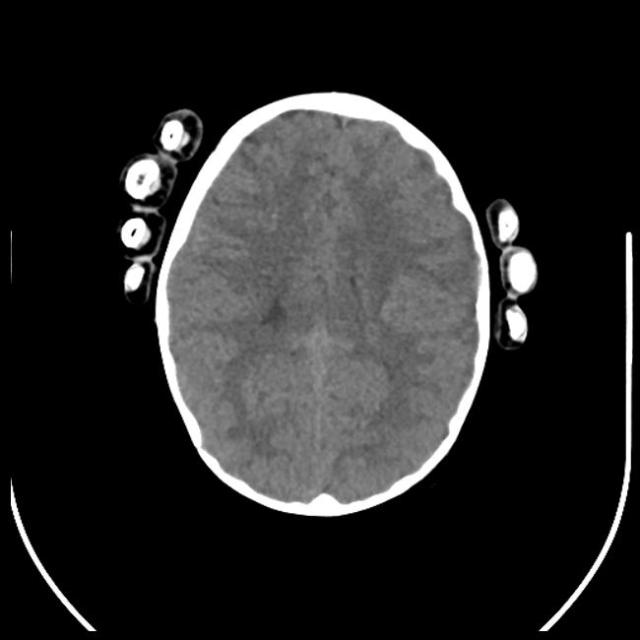lesion: (270, 96, 402, 146)
